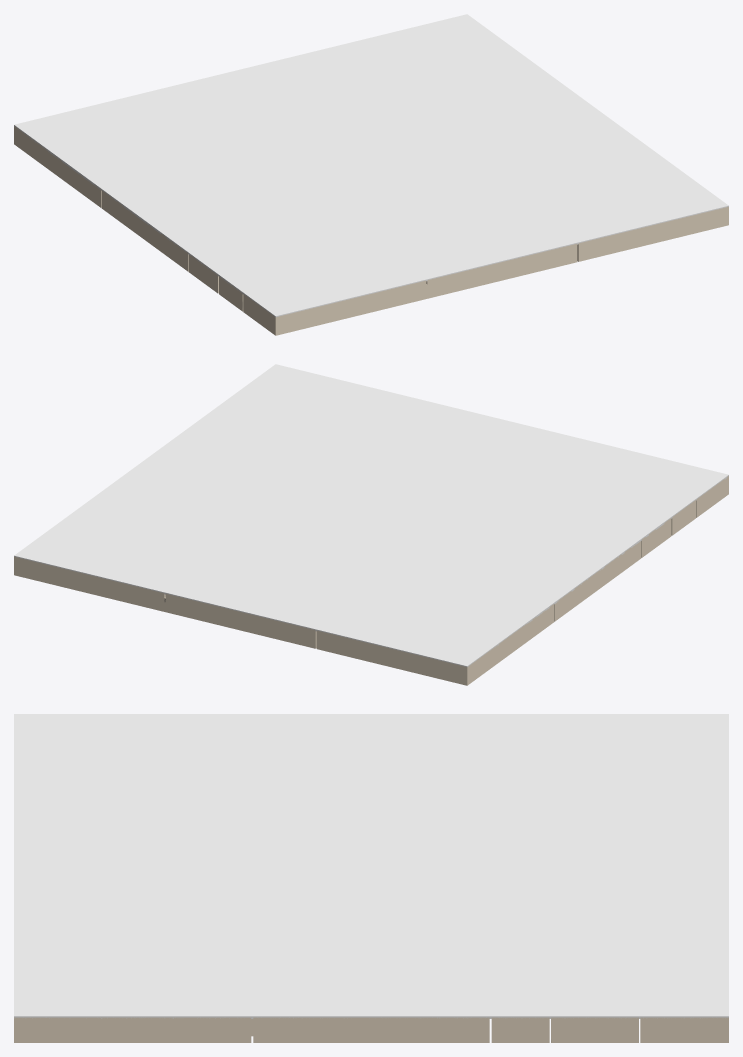
The model's file is MapBase.fbx.
3 views of the same model, one above another, from view 1: azimuth 30°, elevation 25°; view 2: azimuth 150°, elevation 25°; view 3: azimuth 270°, elevation 25° (orthographic). The views are drawn at different scales.
Visible parts, largest first — view 1: MapC, MapFloor; view 2: MapC, MapFloor; view 3: MapC, MapFloor.
Part boxes in pixels (x1,y1,x2,y2): MapC: (14, 14, 728, 317); MapFloor: (14, 126, 728, 335); MapC: (14, 364, 728, 666); MapFloor: (14, 476, 728, 685); MapC: (14, 714, 728, 1018); MapFloor: (14, 1017, 728, 1042).
Bounding box in the file's own units: 12000 × 495 × 12000.
